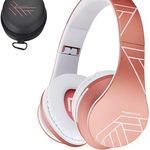headphones: (38, 0, 150, 148)
